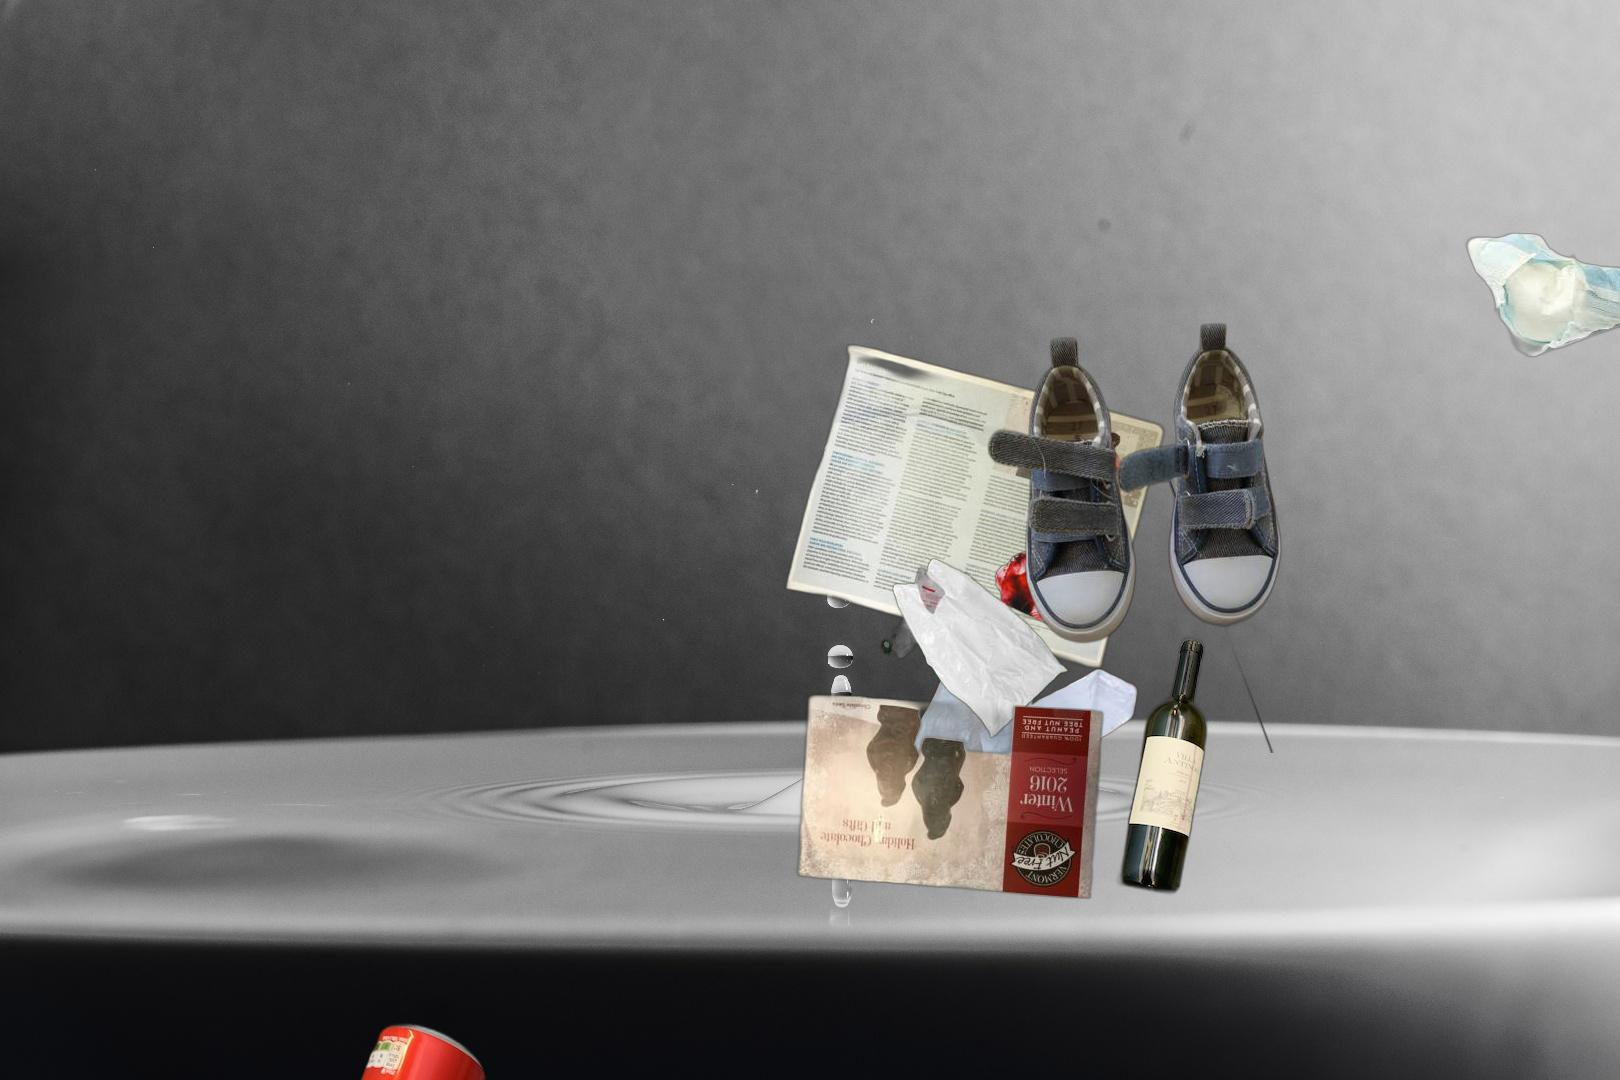glass: (1113, 630, 1211, 899)
metal-cans: (263, 1019, 491, 1080)
paper: (782, 342, 1169, 673), (793, 691, 1107, 900)
plastic-bag: (877, 542, 1098, 790), (908, 647, 1139, 812)
shoes: (984, 219, 1285, 753)
trash: (1462, 230, 1620, 360)
